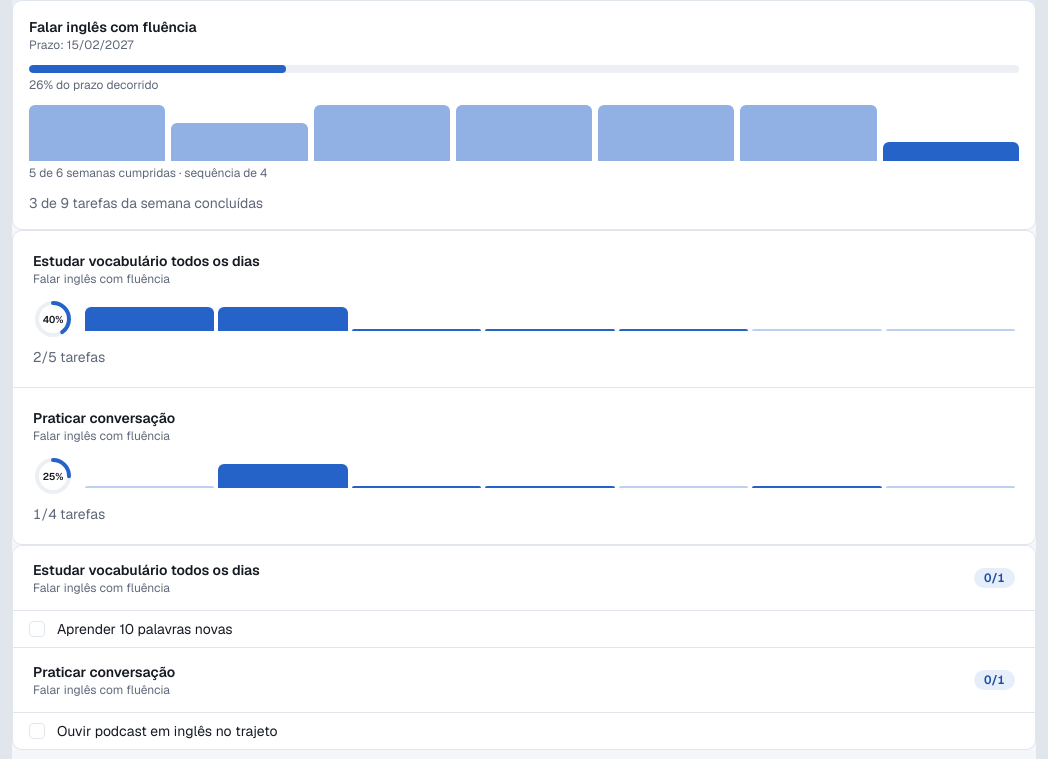
Test: DemoCard › shares the tasks between the cards: a tick in Hoje moves the week and the objective
Click the checkbox named "Aprender 10 palavras novas" next to "Aprender 10 palavras novas". click: (37, 629)
box: left=29, top=621, right=45, bottom=637
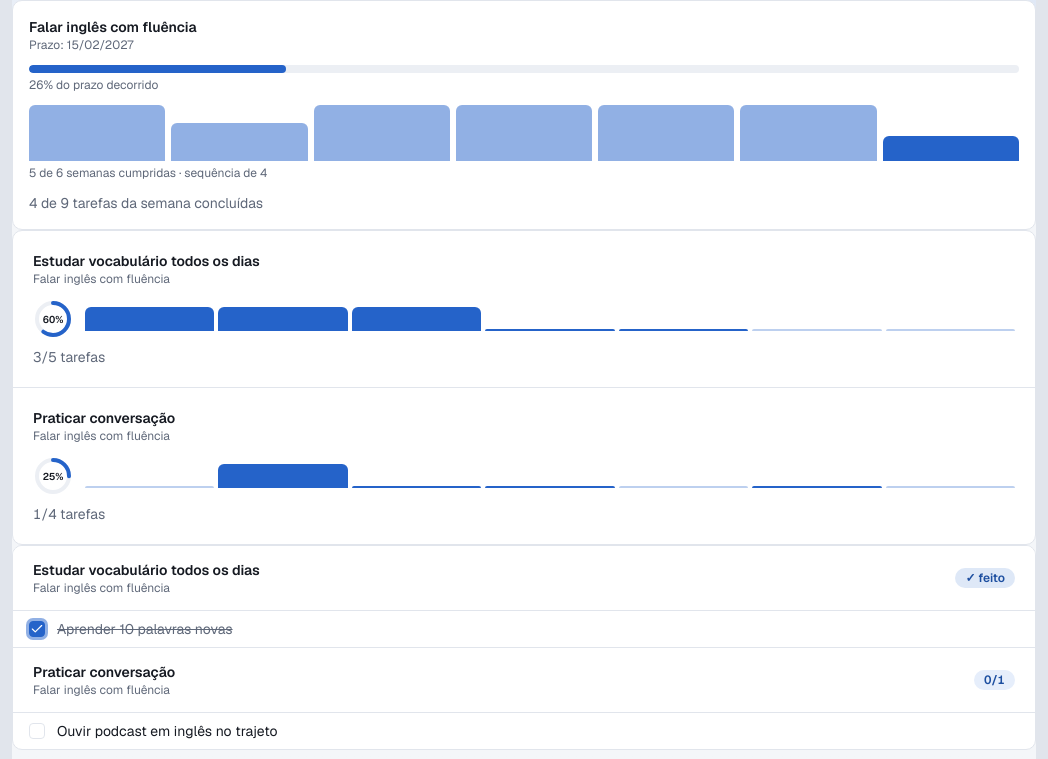
Check: the checkbox named "Aprender 10 palavras novas" next to "Aprender 10 palavras novas" is checked, box left=29, top=621, right=45, bottom=637
Check: the text "60%" is shown, box left=43, top=312, right=63, bottom=326
Check: the text "4 de 9 tarefas da semana concluídas" is shown, box left=29, top=194, right=263, bottom=212
